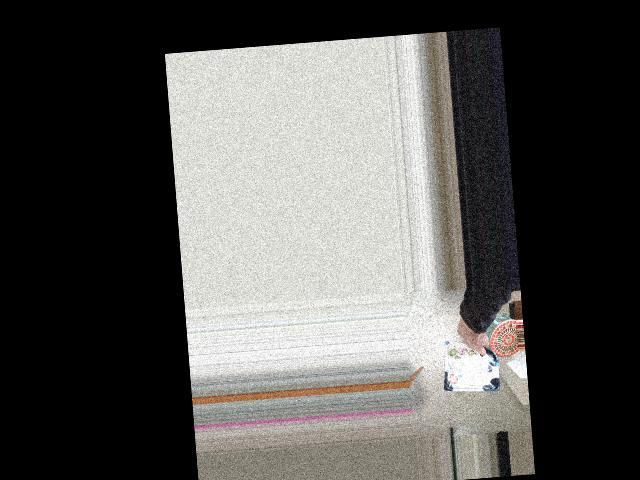cheese: (440, 318, 500, 383)
